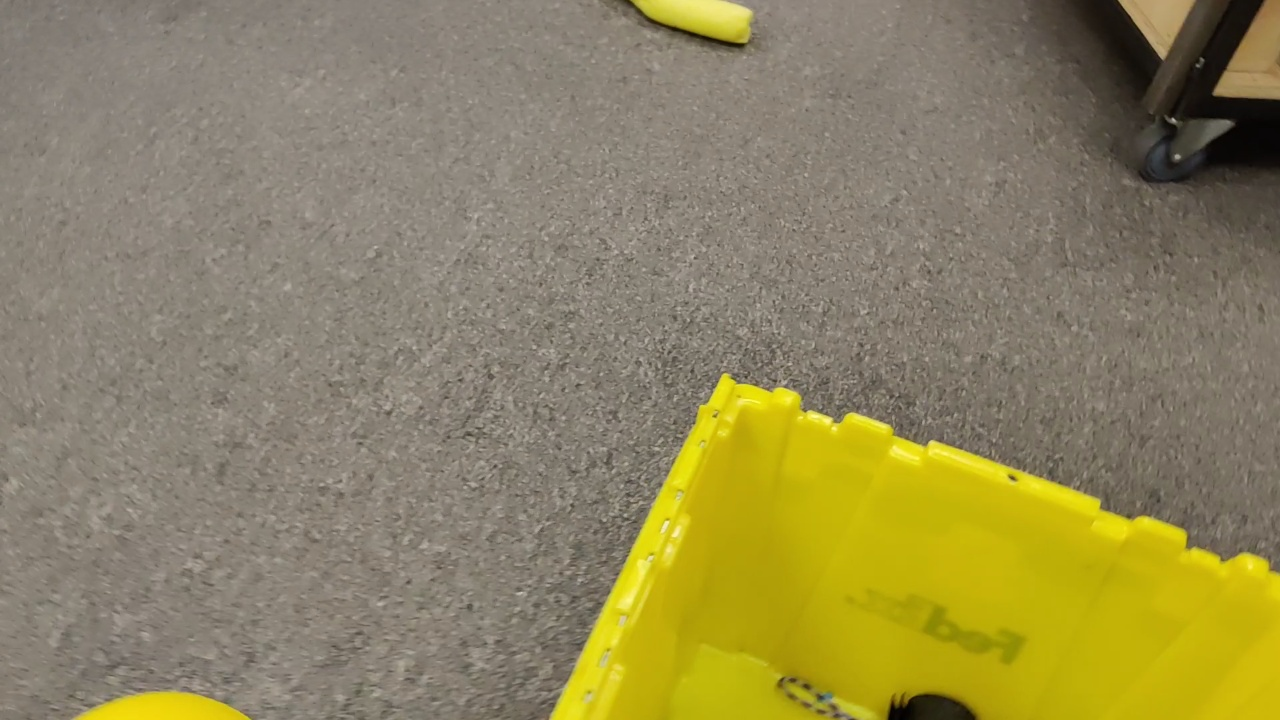Ball: (71, 690, 252, 720)
